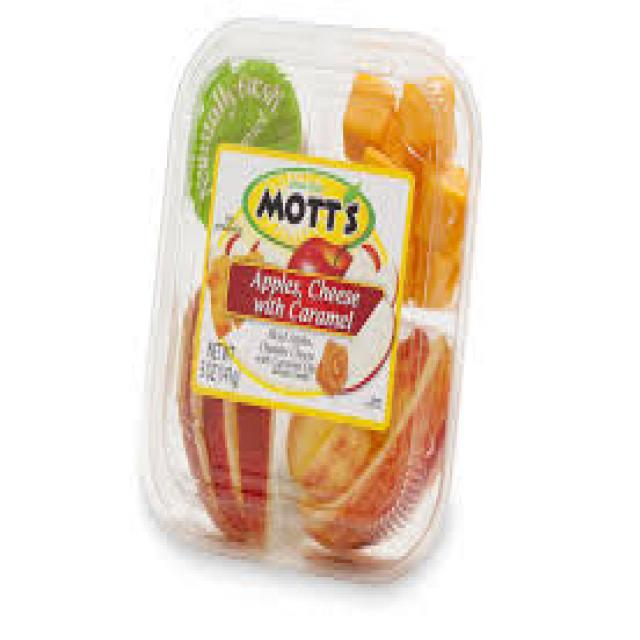Apple: (323, 424, 443, 551), (233, 402, 273, 534), (181, 326, 208, 513), (204, 399, 243, 514), (311, 433, 374, 502), (289, 408, 321, 493)
